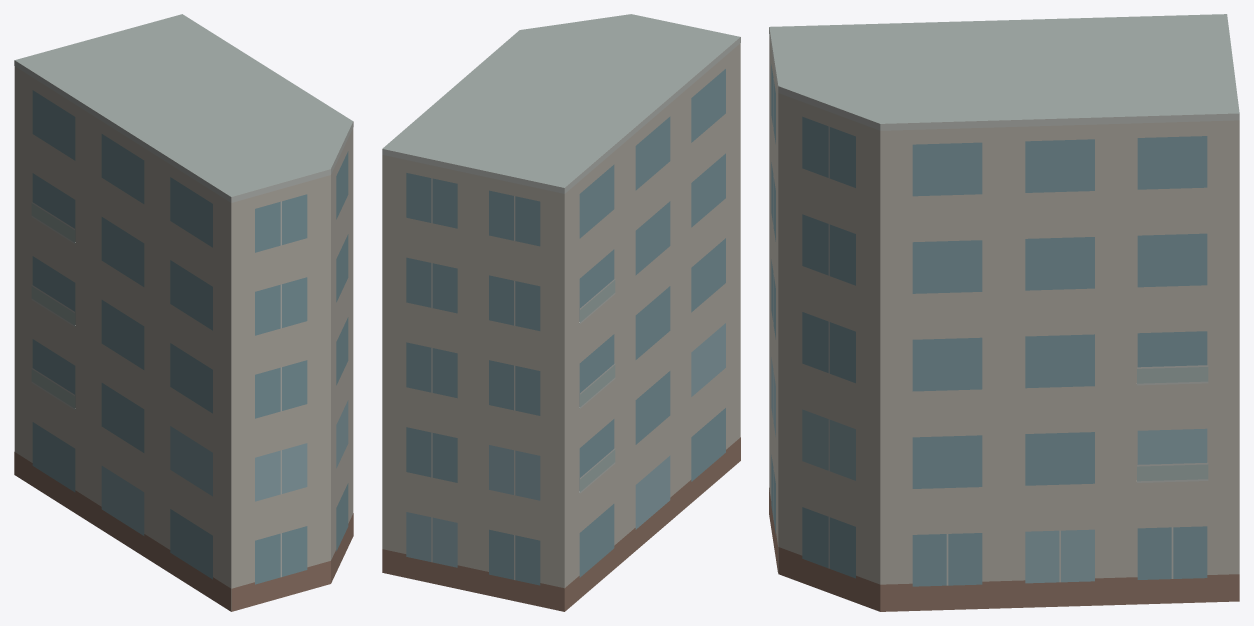
The model's file is survey-upis-32915508.glb.
3 renders of one model, left to right at view 1: azimuth 30°, elevation 25°; view 2: azimuth 150°, elevation 25°; view 3: azimuth 270°, elevation 25°, orthographic. The views are drawn at different scales.
Parts seen in each view (by area): view 1: survey-upis-32915508.tmp; view 2: survey-upis-32915508.tmp; view 3: survey-upis-32915508.tmp.
Part boxes in pixels (x1,y1,x2,y2): survey-upis-32915508.tmp: (14,14,353,611); survey-upis-32915508.tmp: (382,14,740,611); survey-upis-32915508.tmp: (769,14,1239,611).
Size of the model in its own units: 8.37 by 17.3 by 15.13.
